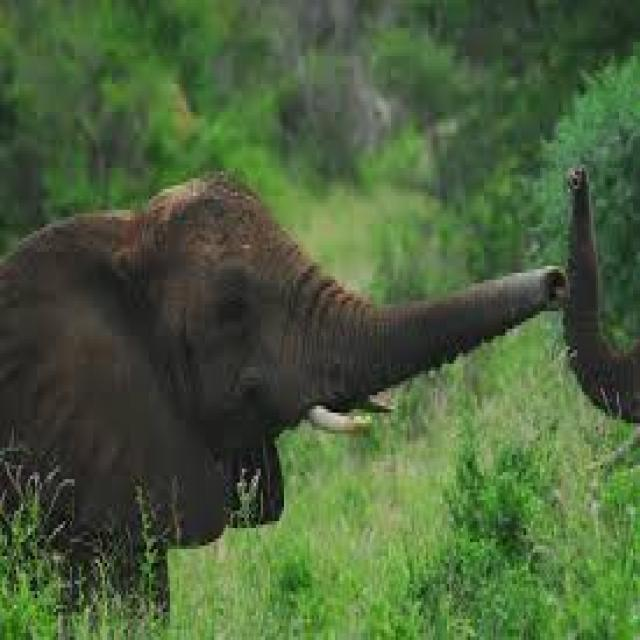Elephant: (0, 164, 568, 626)
